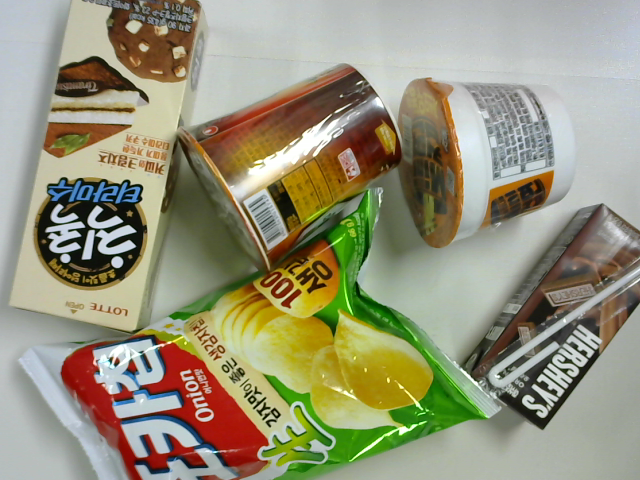Chicchok_Tiramisu: (21, 1, 174, 321)
Hush_Choco_Drink: (452, 199, 640, 433)
Ojjam: (179, 57, 402, 260)
Pocachip_Onion: (23, 216, 480, 480)
Udongmini: (379, 62, 585, 243)
